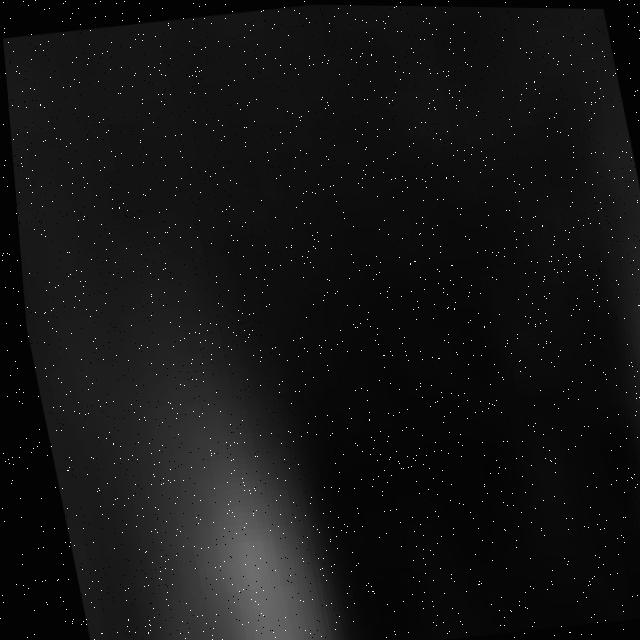person: (112, 329, 339, 640)
